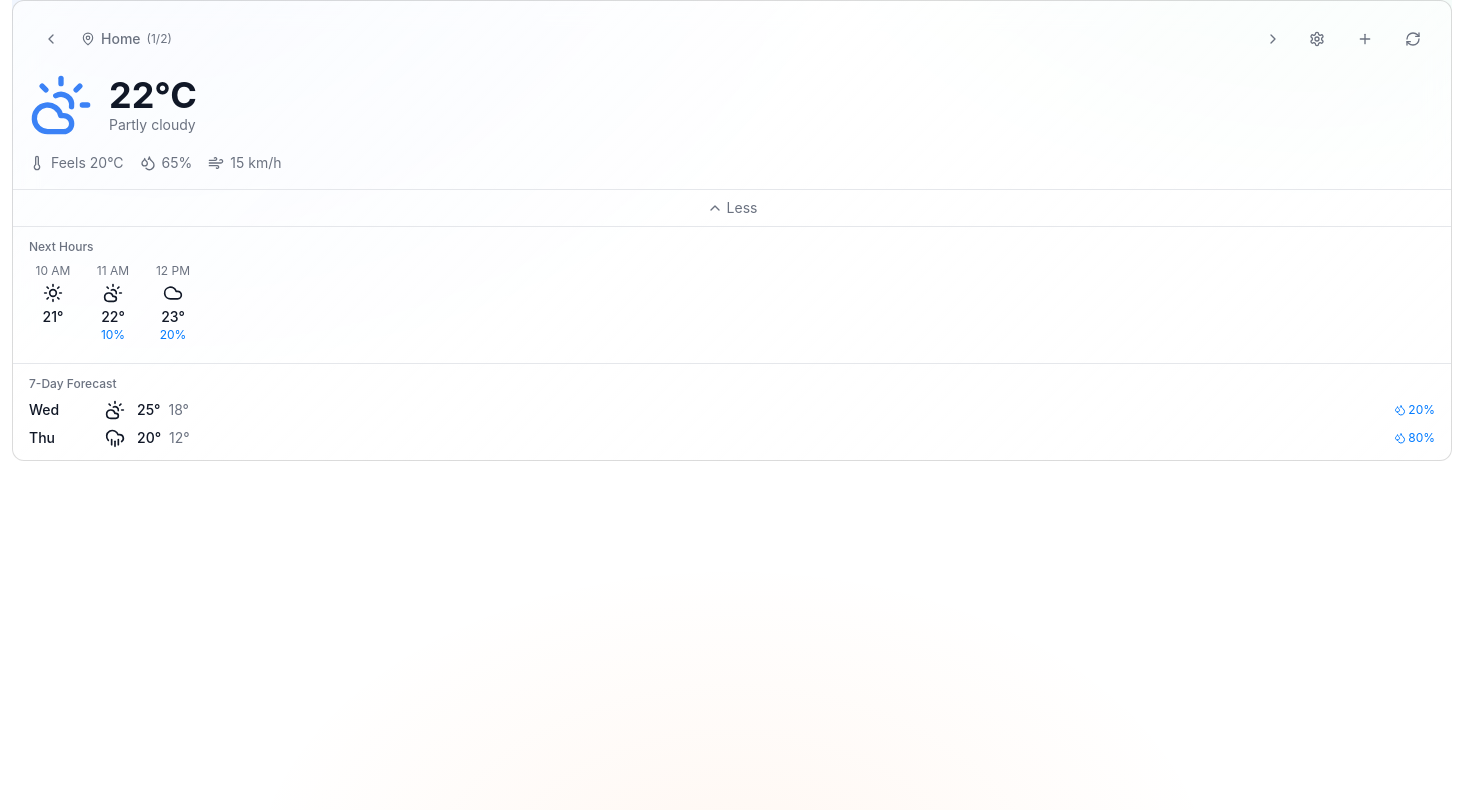
Test case: WeatherWidget › Expand/Collapse Forecast › collapses forecast on click
Step 1. Click the button "Less" → [732, 208], box [13,189,1451,226]
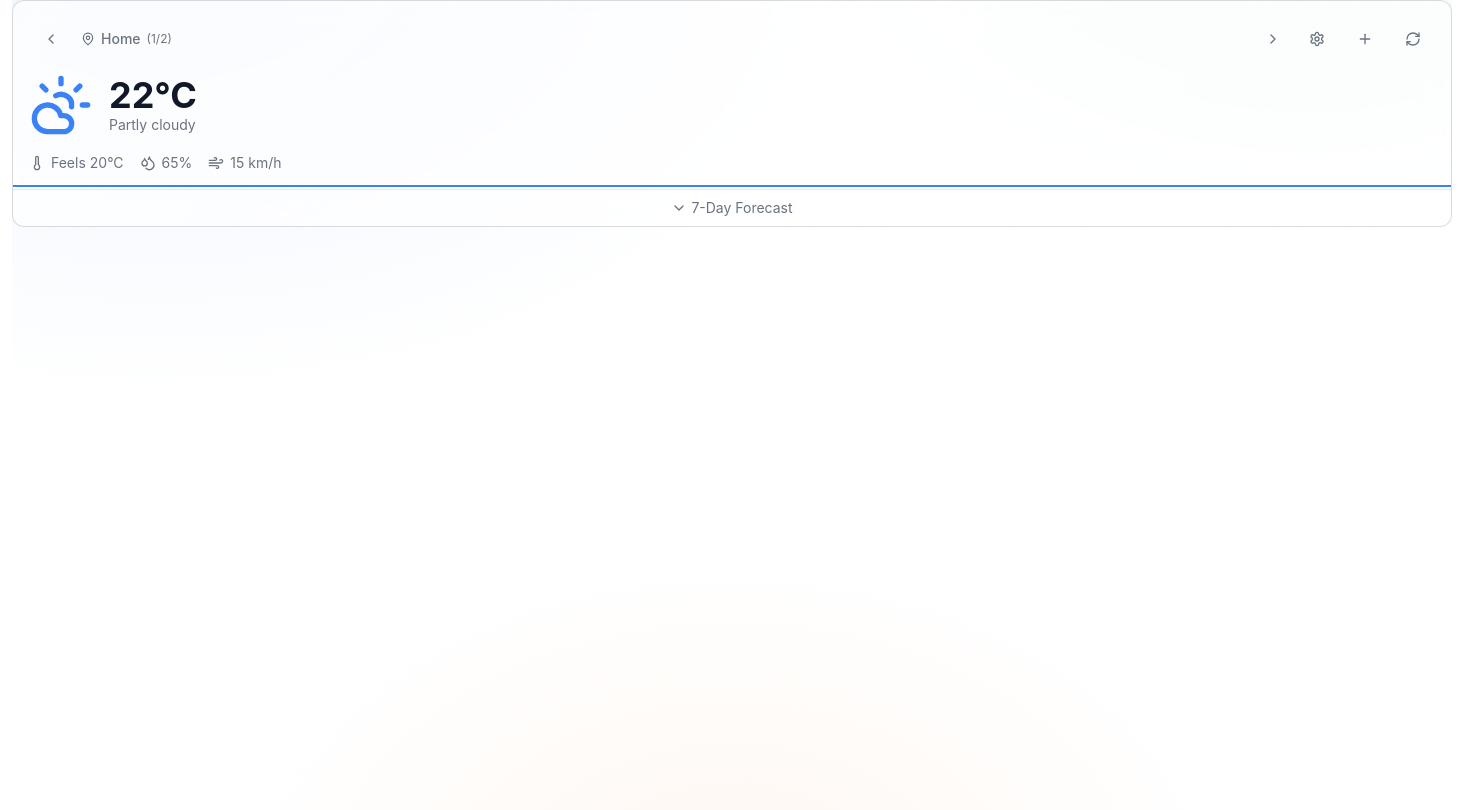
Expected: the heading "Next Hours" is gone
Expected: the button "7-Day Forecast" is shown, [13,189,1451,226]
